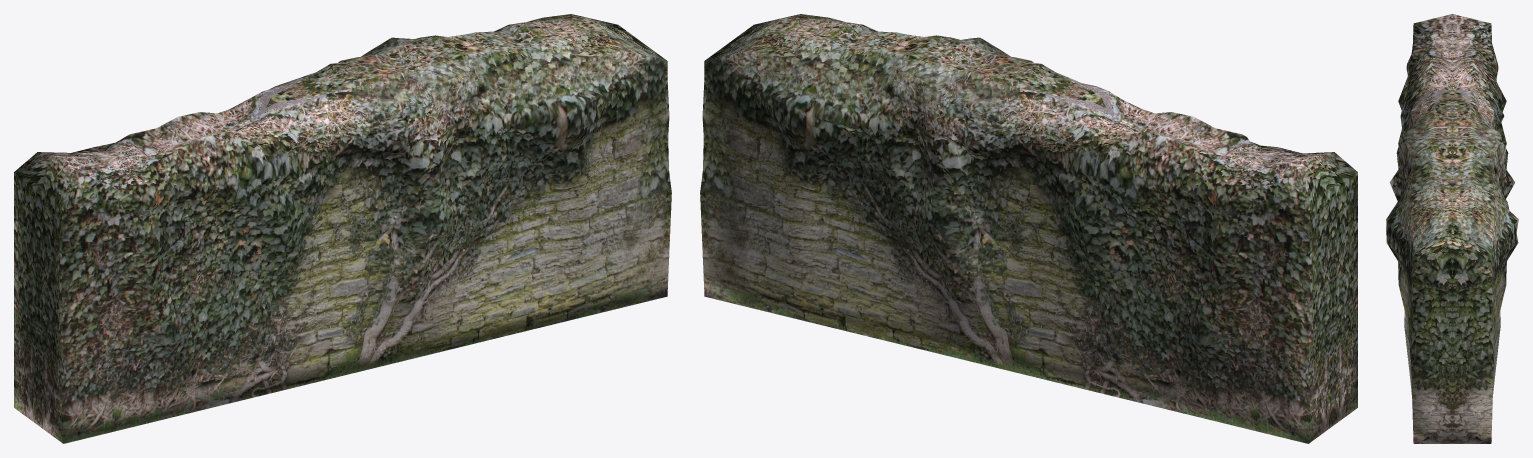
File: wallpartc.fbx
3 views of the same model, side by side, from view 1: azimuth 30°, elevation 25°; view 2: azimuth 150°, elevation 25°; view 3: azimuth 270°, elevation 25° (orthographic). The views are drawn at different scales.
Parts seen in each view (by area): view 1: U3DMesh; view 2: U3DMesh; view 3: U3DMesh.
Boxes of the visible parts, x1,y1,x2,y2 form: U3DMesh: [14, 14, 671, 443]; U3DMesh: [700, 14, 1357, 443]; U3DMesh: [1386, 14, 1518, 443].
Bounding box in the file's own units: 134 × 59.31 × 32.12.
